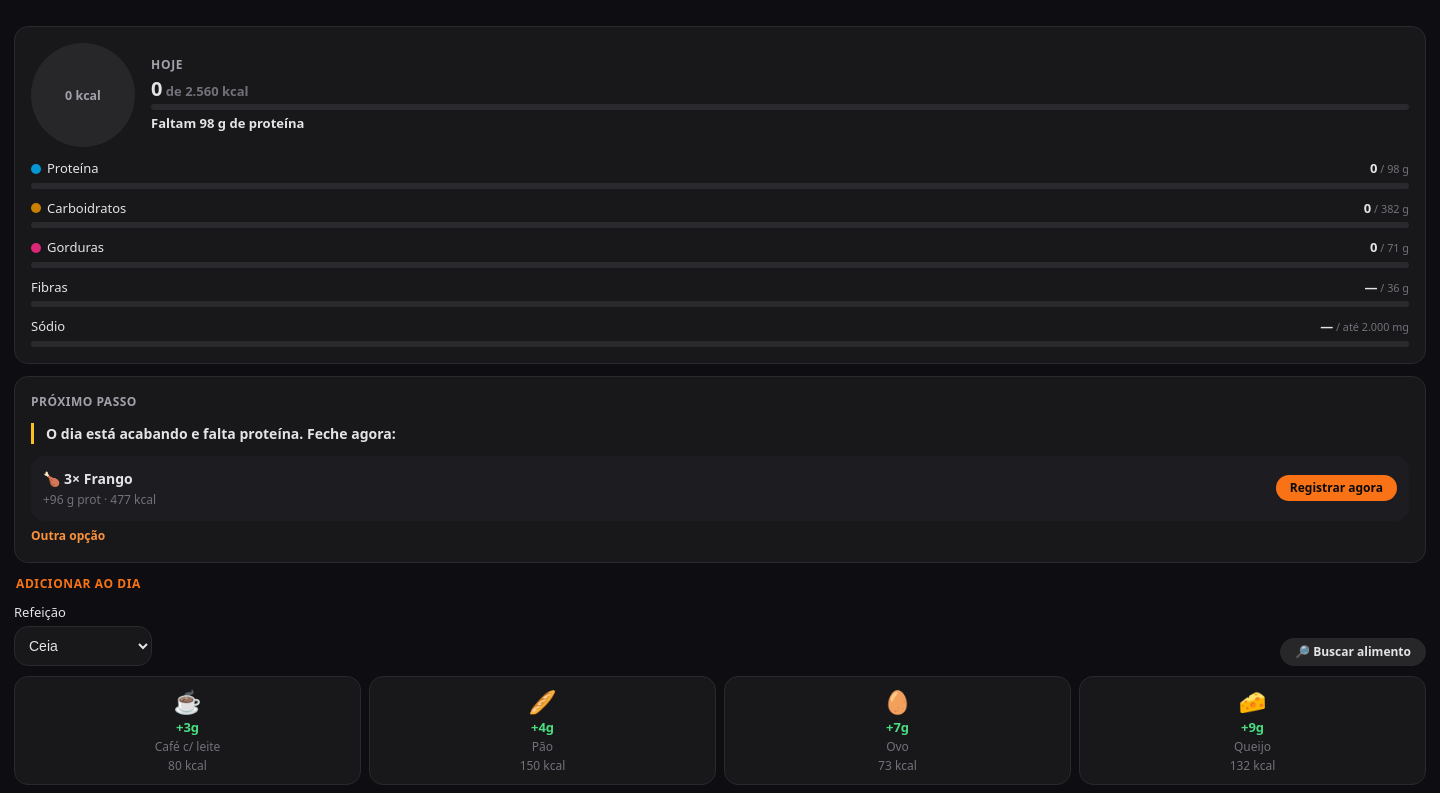
Test case: NutricaoPage › próximo passo: a refeição de sempre entra inteira com um toque
Expected: the text "Ovo" is shown, [886,738,909,755]
Step 1. Select "Jantar" in the dropdown labelled "Refeição" → (83, 646), box [14,626,152,666]
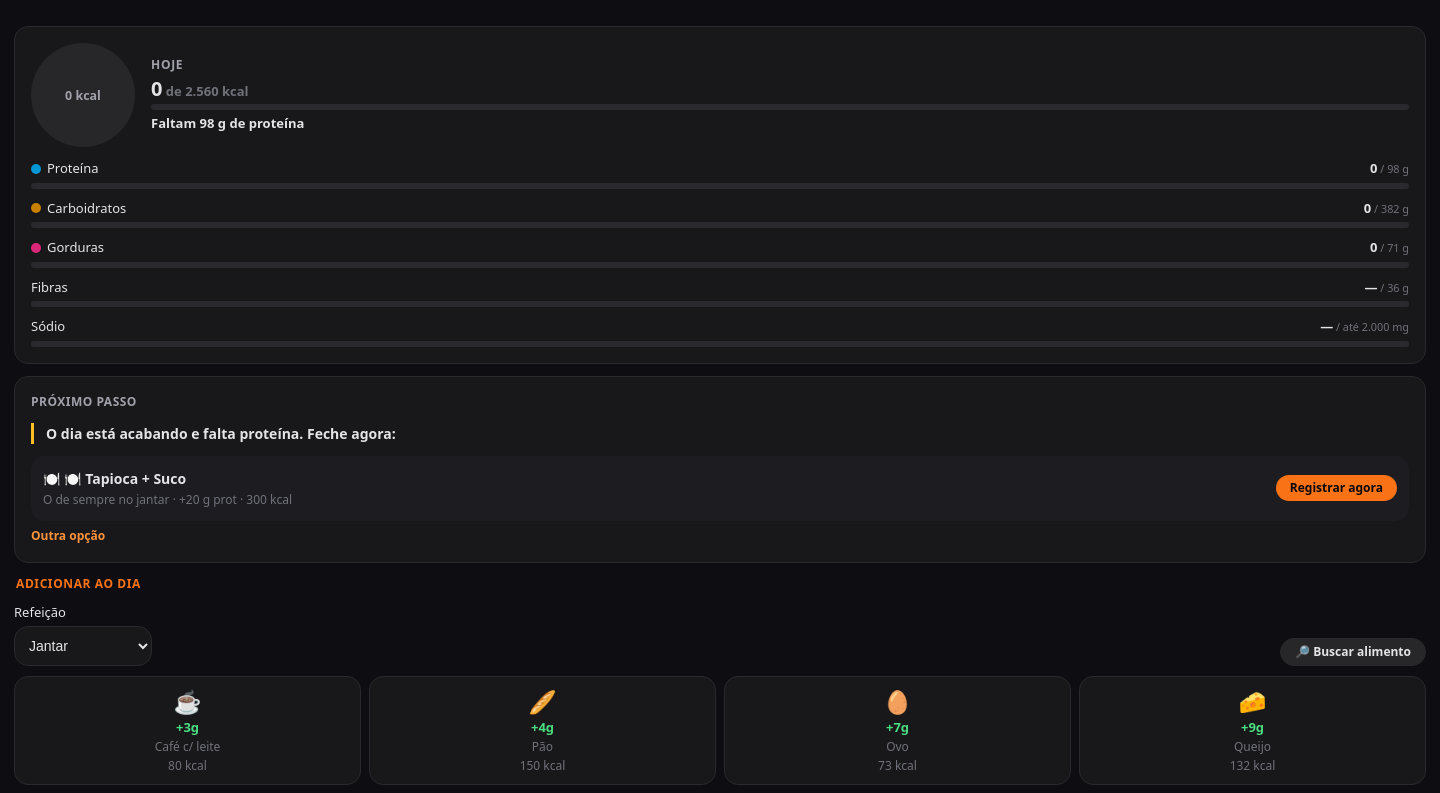
Now the text "🍽️ 🍽️ Tapioca + Suco" is shown, box [43,468,186,488]
Step 2. Click the button "Registrar agora" → (1336, 488), box [1276,475,1397,501]
(page scrolled)
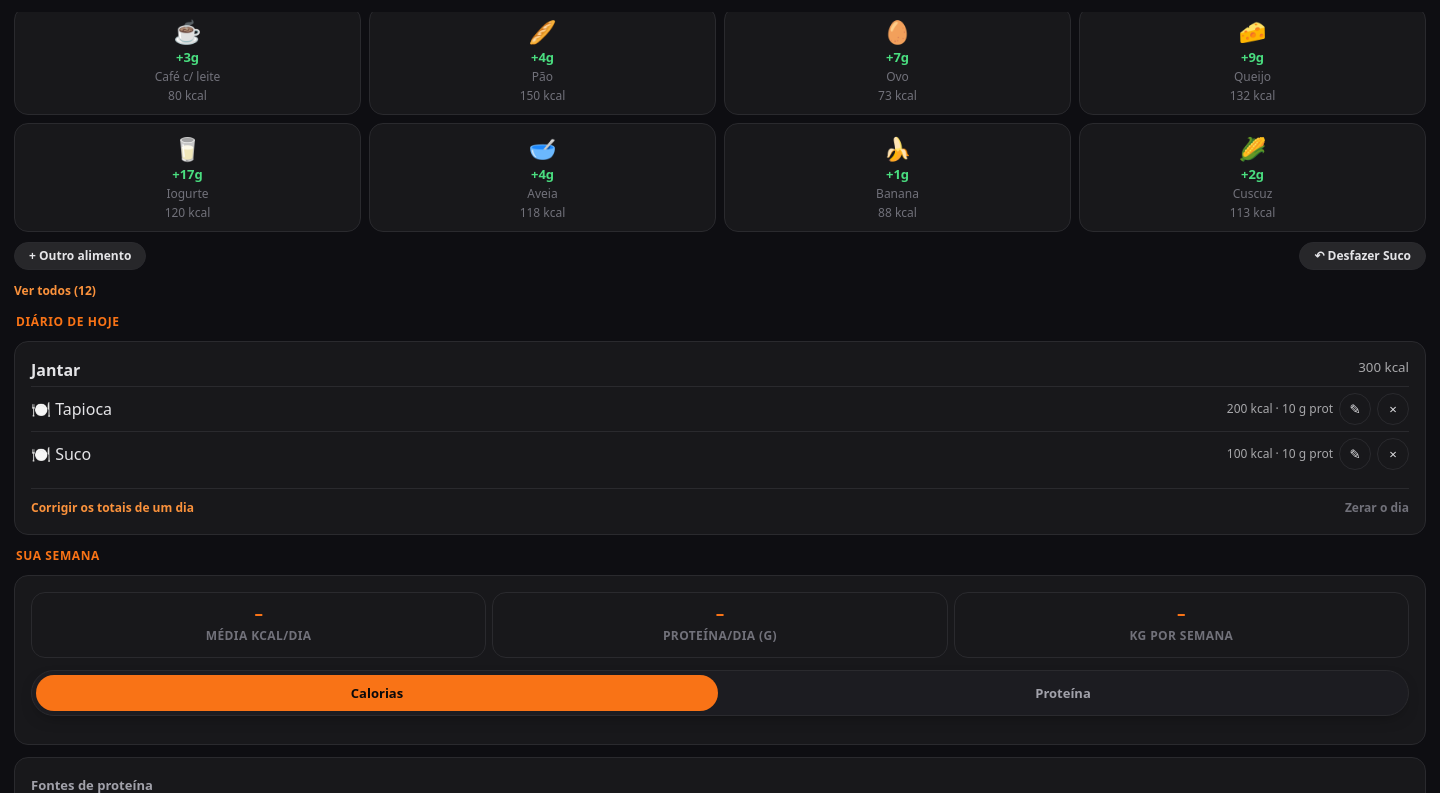
Now the element with class "meal-log" shows "Tapioca", box [55,398,112,420]
Now the text "Tapioca + Suco" is gone
